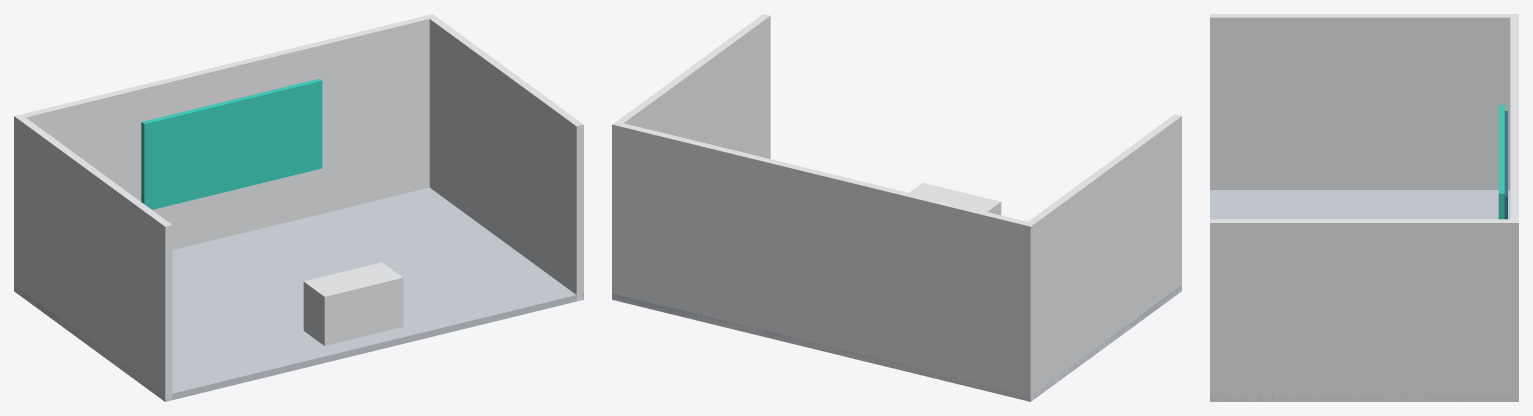
3 renders of one model, left to right at view 1: azimuth 30°, elevation 25°; view 2: azimuth 150°, elevation 25°; view 3: azimuth 270°, elevation 25°, orthographic. The views are drawn at different scales.
Parts seen in each view (by area): view 1: Exhibition Booth Concept; view 2: Exhibition Booth Concept; view 3: Exhibition Booth Concept.
Part boxes in pixels (left/top/right/bottom): Exhibition Booth Concept: left=14, top=14, right=583, bottom=401; Exhibition Booth Concept: left=612, top=14, right=1181, bottom=401; Exhibition Booth Concept: left=1210, top=14, right=1518, bottom=401.
Bounding box in the file's own units: 8 × 3.2 × 5.
